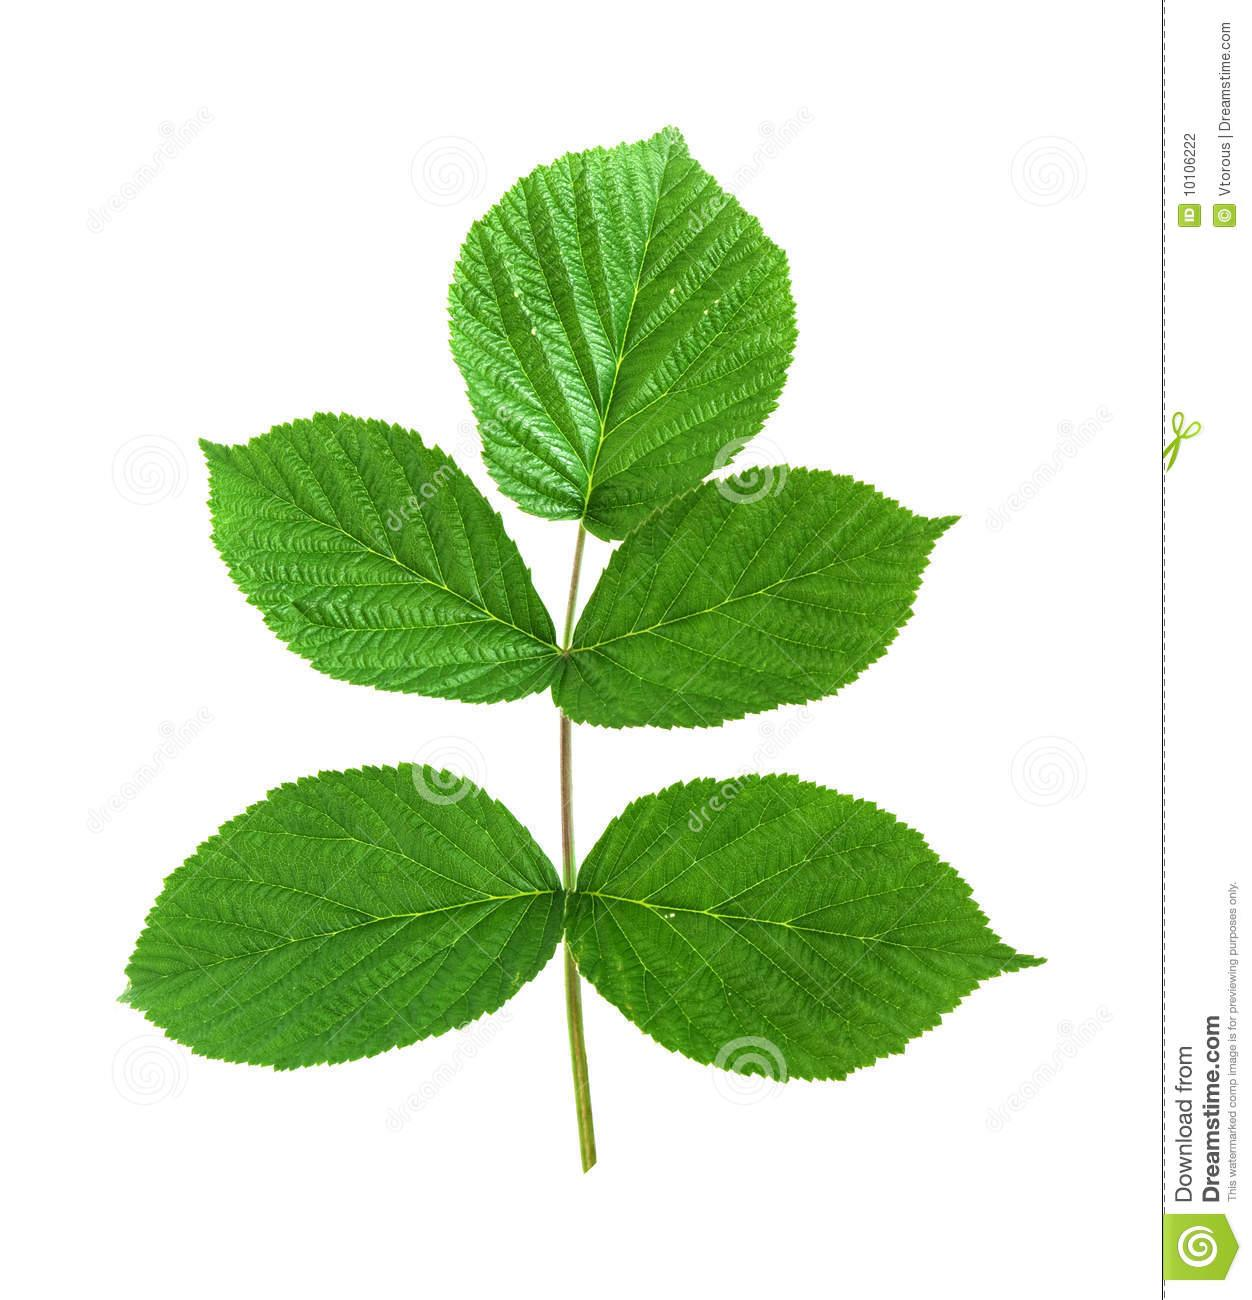Soyabean leaf: (567, 773, 1054, 1083), (456, 121, 802, 546), (115, 760, 559, 1079), (564, 460, 960, 734), (198, 409, 563, 705)
